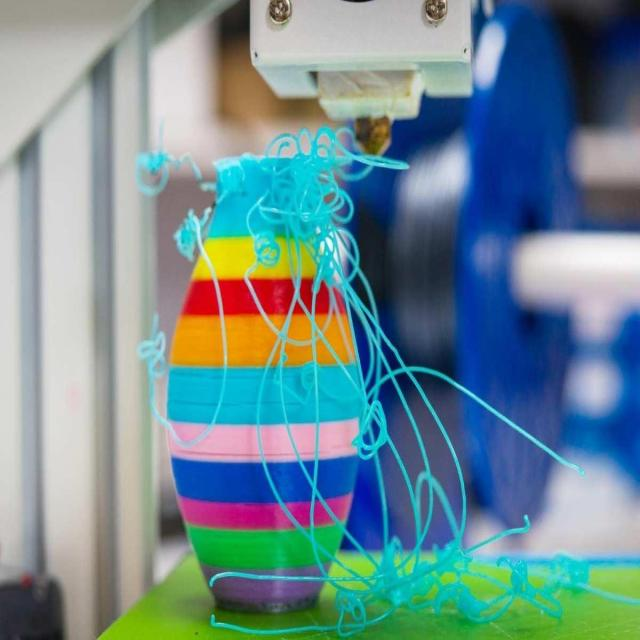Spaghetti: (124, 121, 606, 628)
